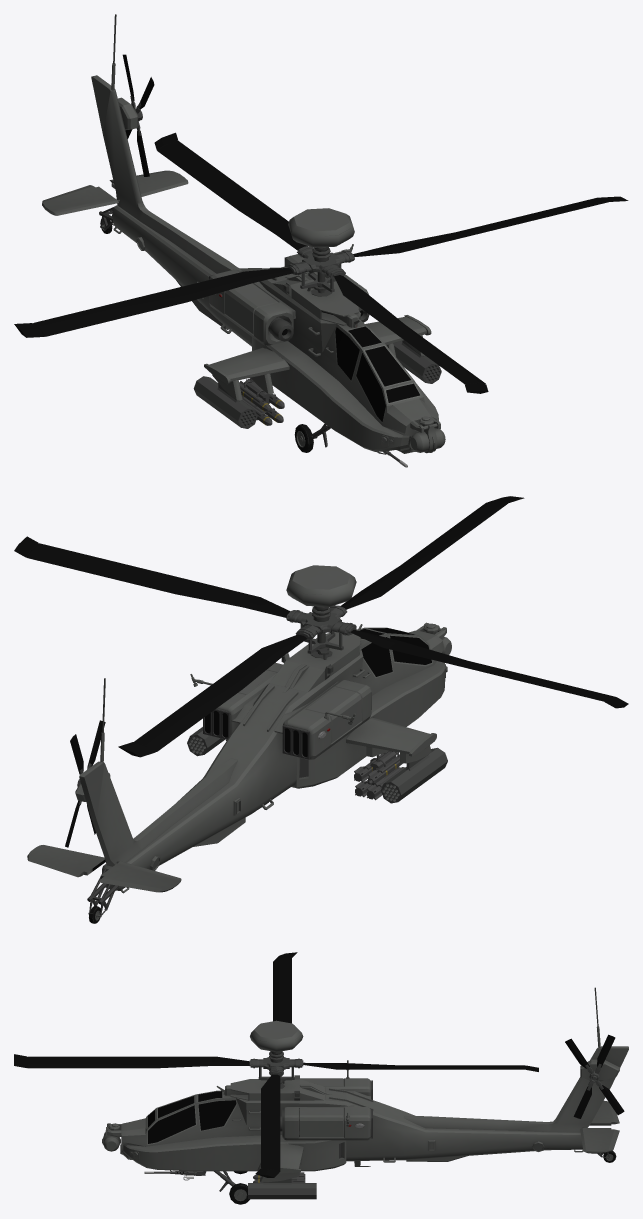
The picture shows the model from 3 angles, top to bottom: view 1: azimuth 30°, elevation 25°; view 2: azimuth 150°, elevation 25°; view 3: azimuth 270°, elevation 25°; orthographic projection. The views are drawn at different scales.
Parts seen in each view (by area): view 1: Cylinder.035, Cylinder.033, Cube.094, Cube.093, Cube.103, Cube.092; view 2: Cylinder.035, Cylinder.033, Cube.094, Cube.093, Cube.092, Cylinder.034, Cube.103; view 3: Cylinder.035, Cylinder.033, Cube.094, Cube.092, Cube.103.
Part boxes in pixels (box(x1,y1,x2,y2)): Cylinder.035: box(91, 14, 445, 453); Cylinder.033: box(14, 132, 628, 393); Cube.094: box(42, 170, 188, 215); Cube.093: box(193, 340, 423, 428); Cube.103: box(393, 341, 441, 383); Cube.092: box(122, 54, 154, 176); Cylinder.035: box(75, 565, 451, 923); Cylinder.033: box(14, 496, 628, 757); Cube.094: box(27, 845, 181, 892); Cube.093: box(381, 747, 447, 803); Cube.092: box(65, 720, 105, 847); Cylinder.034: box(363, 750, 403, 787); Cube.103: box(187, 727, 224, 756); Cylinder.035: box(102, 987, 628, 1204); Cylinder.033: box(14, 952, 538, 1177); Cube.094: box(580, 1100, 619, 1153); Cube.092: box(565, 1034, 624, 1118); Cube.103: box(248, 1183, 316, 1199).
Bounding box in the file's own units: 9.68 × 4.09 × 11.34.
7 materials, 1 textured.
